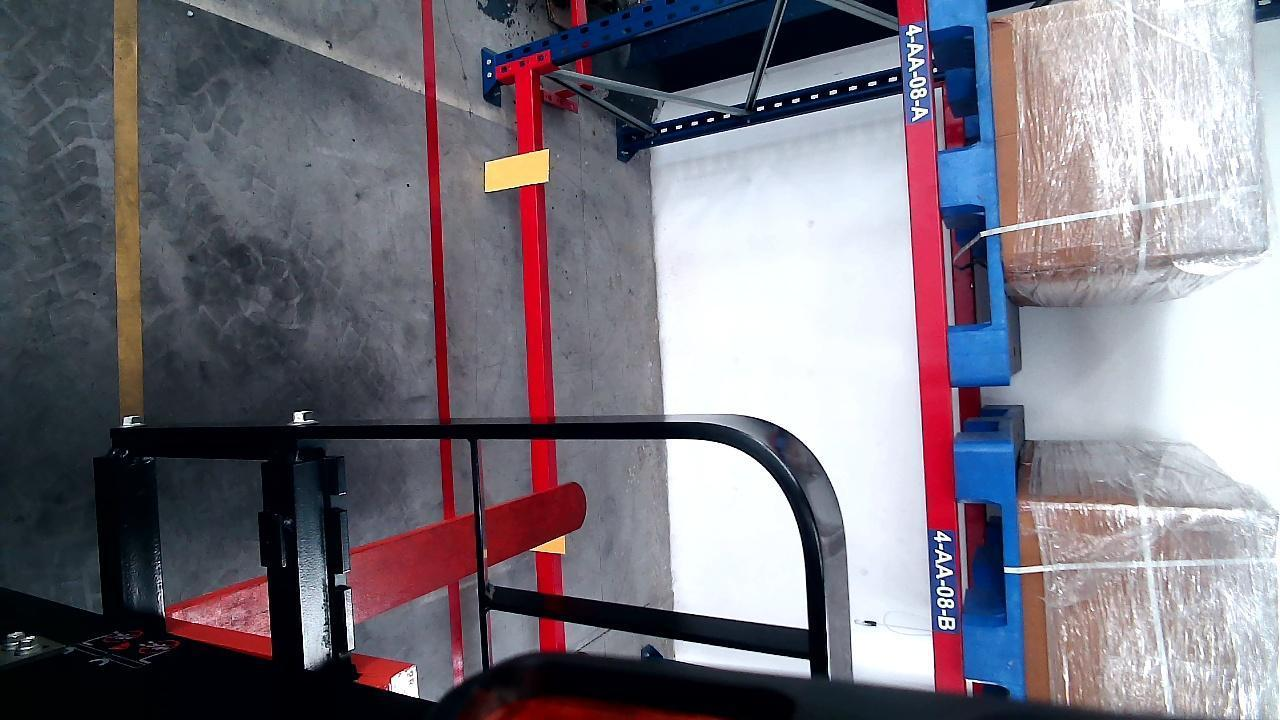h_rack: (901, 0, 962, 692), (513, 71, 564, 644)
orange_strip: (483, 150, 549, 192)
red_line: (423, 0, 449, 420)
small_pallet: (932, 0, 1012, 373), (959, 443, 1023, 699)
yellow_line: (115, 0, 142, 417)
